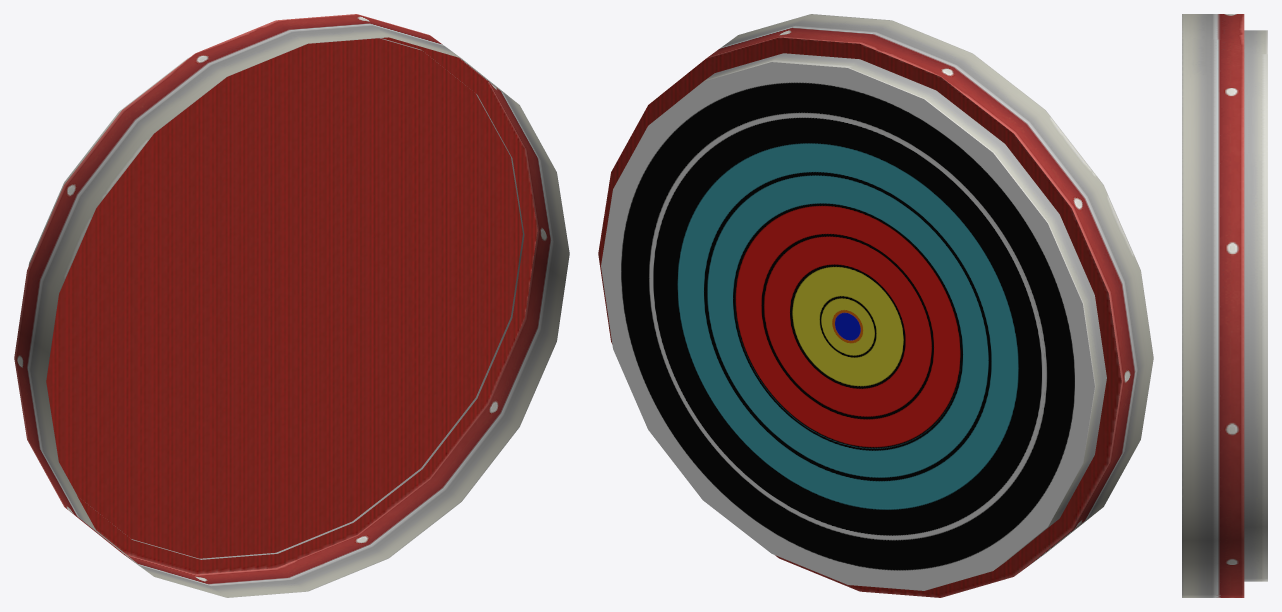
The model's file is target.glb.
The picture shows the model from 3 angles, left to right: view 1: azimuth 30°, elevation 25°; view 2: azimuth 150°, elevation 25°; view 3: azimuth 270°, elevation 25°; orthographic projection. The views are drawn at different scales.
Visible parts, largest first — view 1: Bia ban Resize; view 2: Bia ban Resize; view 3: Bia ban Resize.
Part boxes in pixels (x1=…): Bia ban Resize: x1=14, y1=14, x2=569, y2=597; Bia ban Resize: x1=598, y1=14, x2=1153, y2=597; Bia ban Resize: x1=1182, y1=14, x2=1267, y2=597.
Size of the model in its own units: 1.67 by 1.67 by 0.2434.
1 material, 1 textured.
